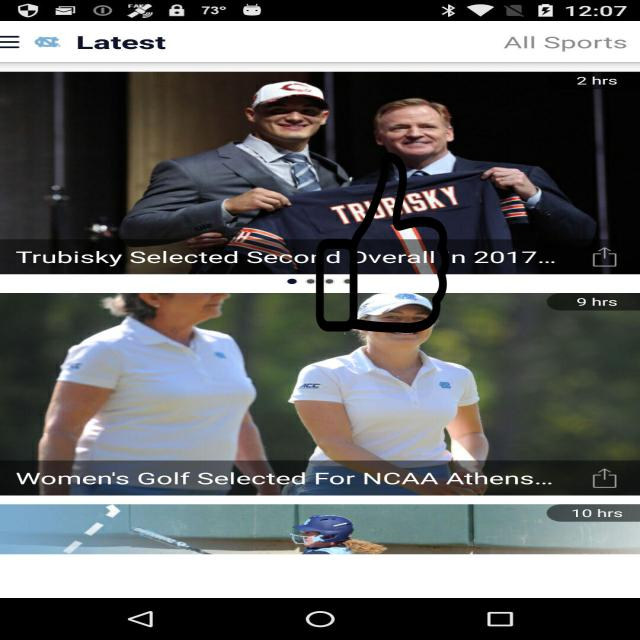privacy zuckering: (314, 152, 452, 333)
